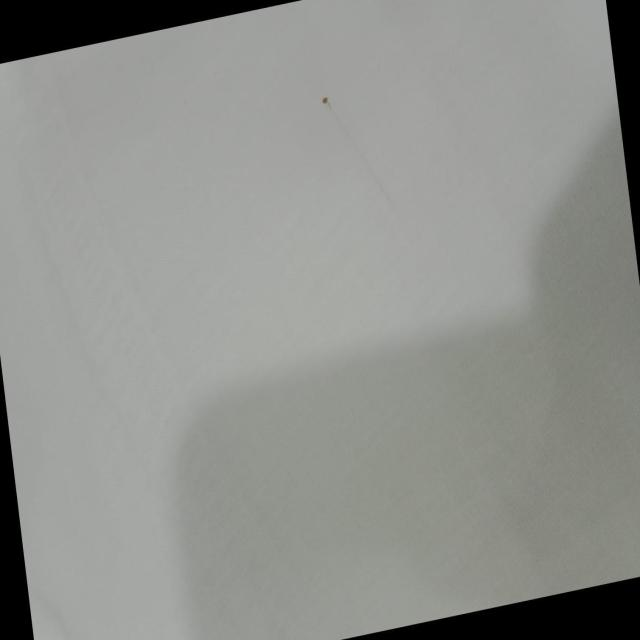stain: (312, 75, 349, 131)
